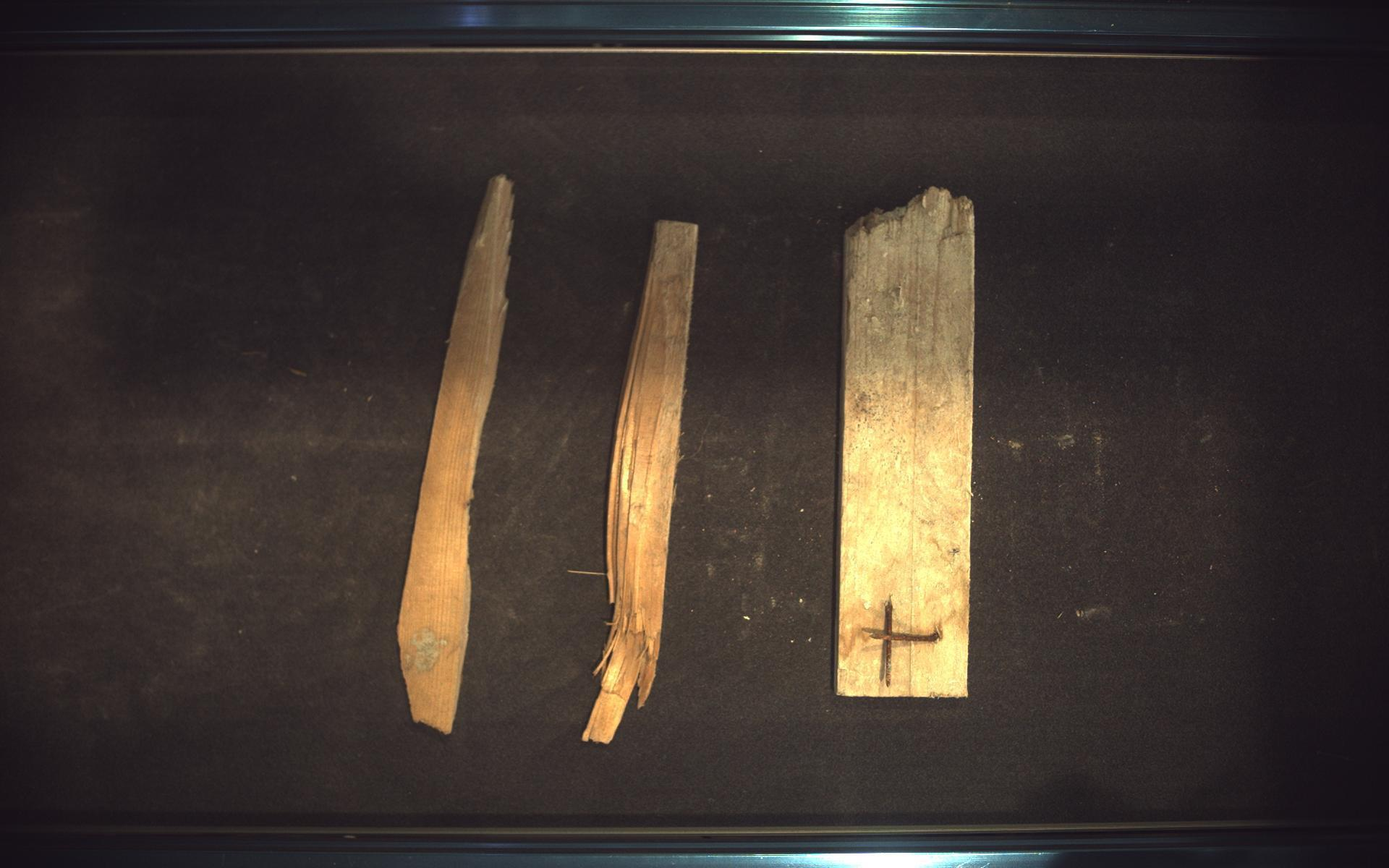wood: (837, 187, 977, 698), (397, 174, 514, 735), (583, 219, 699, 745)
